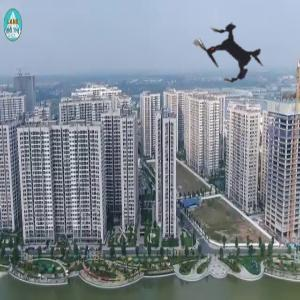drone: (177, 1, 285, 109)
